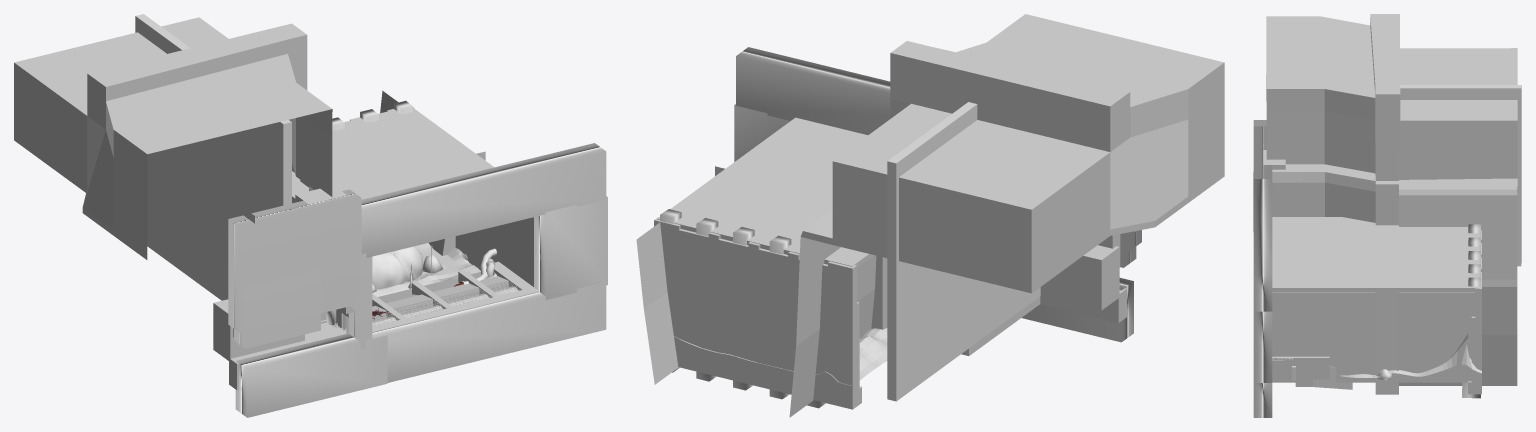
The picture shows the model from 3 angles, left to right: view 1: azimuth 30°, elevation 25°; view 2: azimuth 150°, elevation 25°; view 3: azimuth 270°, elevation 25°; orthographic projection. The views are drawn at different scales.
Visible parts, largest first — view 1: Cube.237, Cube.193, Cube.152, Landscape.004; view 2: Cube.237, Cube.152, Cube.193; view 3: Cube.237, Cube.193, Cube.152.
Boxes of the visible parts, x1,y1,x2,y2 form: Cube.237: (14, 17, 539, 390); Cube.193: (228, 143, 607, 417); Cube.152: (135, 14, 291, 300); Landscape.004: (372, 246, 467, 289); Cube.237: (636, 14, 1224, 417); Cube.152: (887, 102, 1040, 401); Cube.193: (734, 47, 1141, 342); Cube.237: (1263, 14, 1517, 398); Cube.193: (1253, 120, 1272, 417); Cube.152: (1400, 85, 1521, 266).
Bounding box in the file's own units: 9702 × 6107 × 6192.
